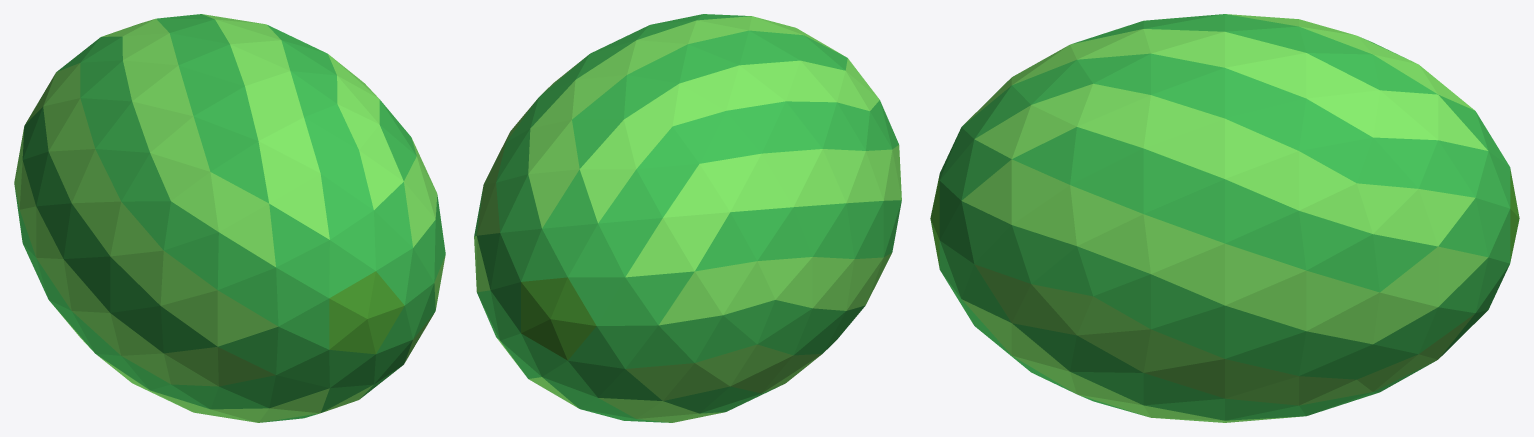
File: watermelon.fbx
The picture shows the model from 3 angles, left to right: view 1: azimuth 30°, elevation 25°; view 2: azimuth 150°, elevation 25°; view 3: azimuth 270°, elevation 25°; orthographic projection. The views are drawn at different scales.
Parts seen in each view (by area): view 1: Icosphere; view 2: Icosphere; view 3: Icosphere.
Part boxes in pixels (x1,y1,x2,y2): Icosphere: (14, 14, 445, 422); Icosphere: (474, 14, 901, 422); Icosphere: (930, 14, 1519, 422).
Bounding box in the file's own units: 200 × 200 × 286.
